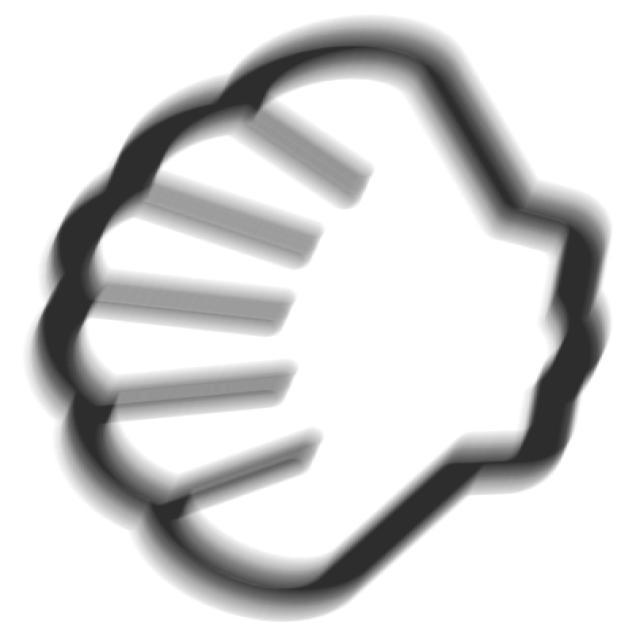shell: (11, 6, 627, 639)
